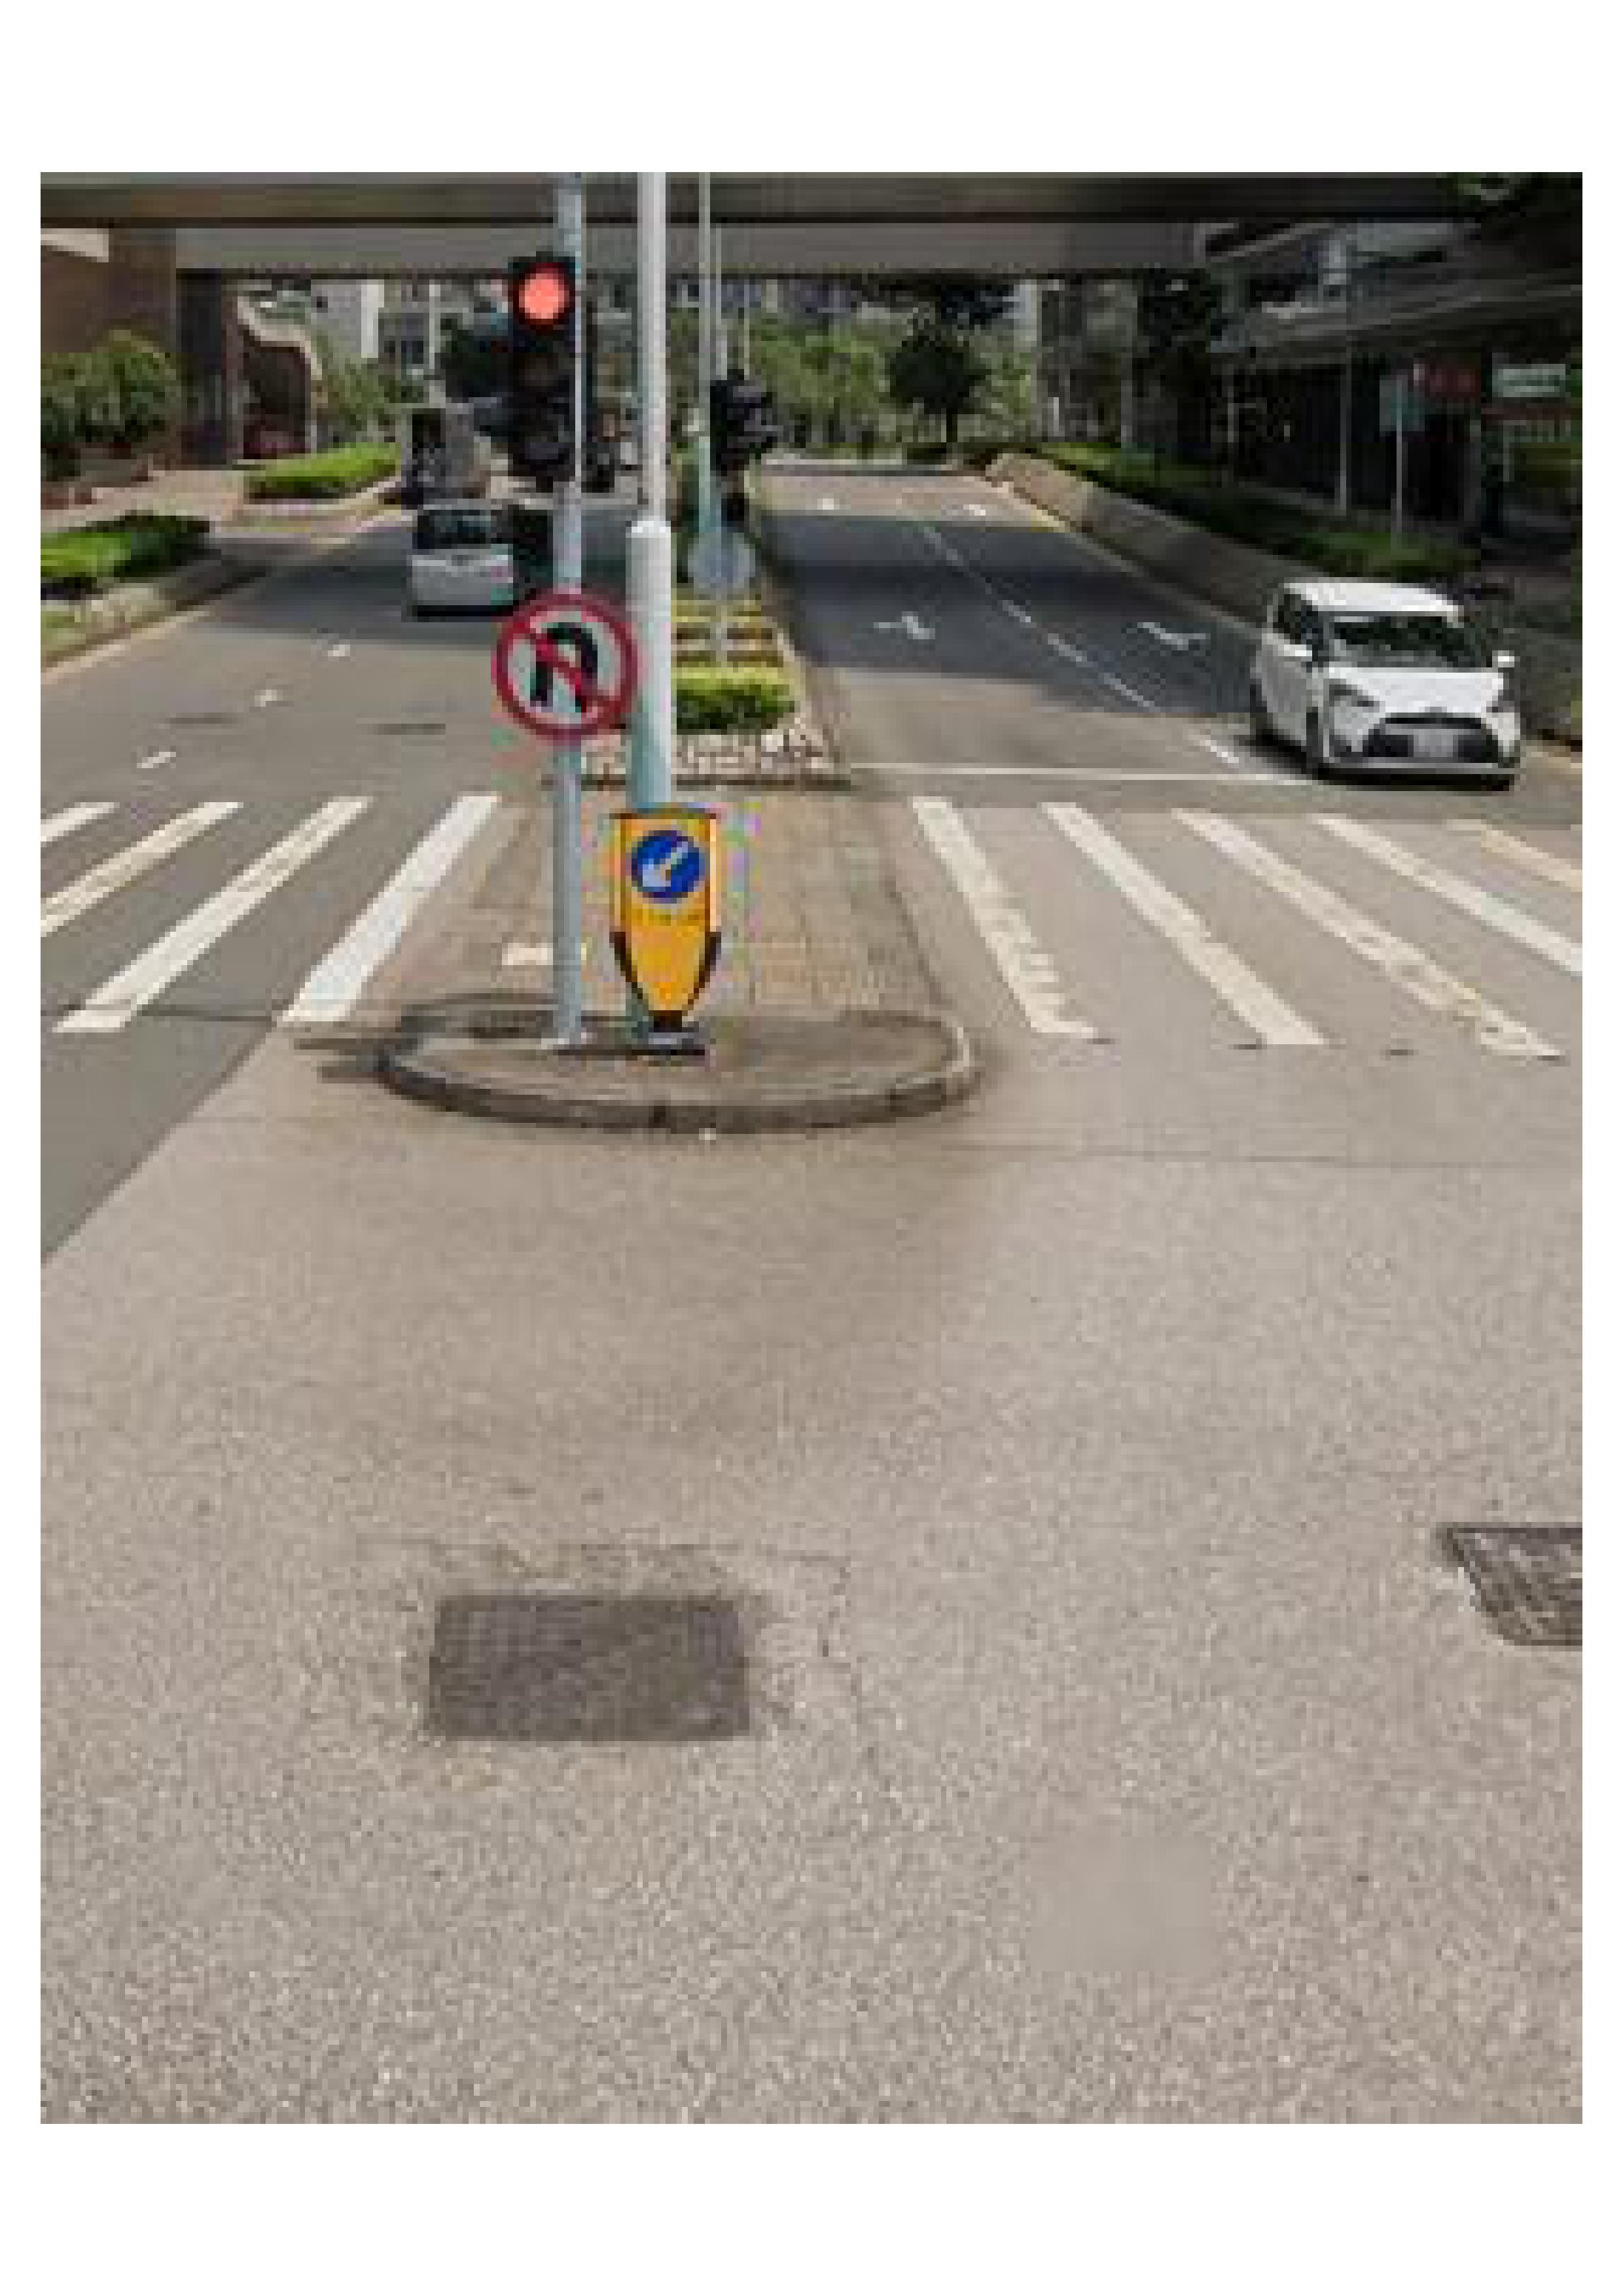No Uturn: (495, 581, 634, 737)
